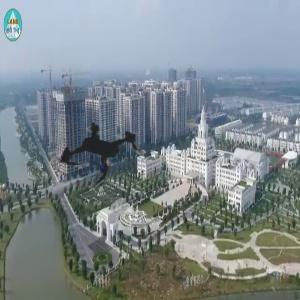drone: (22, 71, 181, 230)
